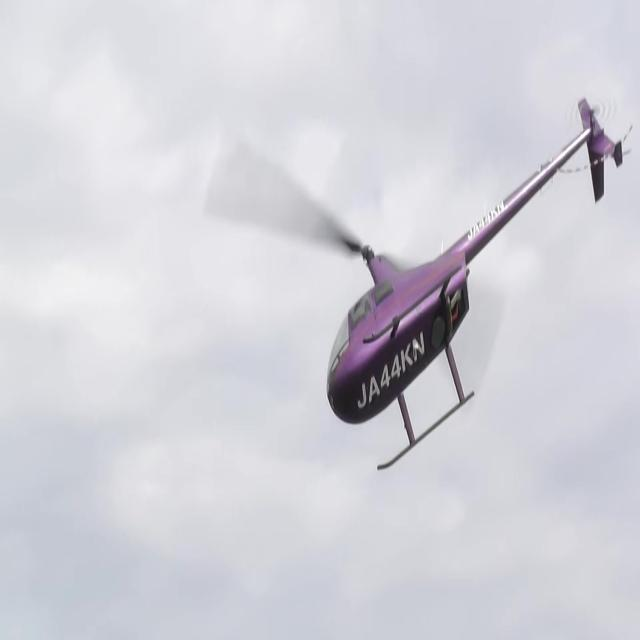CIV_HELO: (326, 94, 623, 474)
